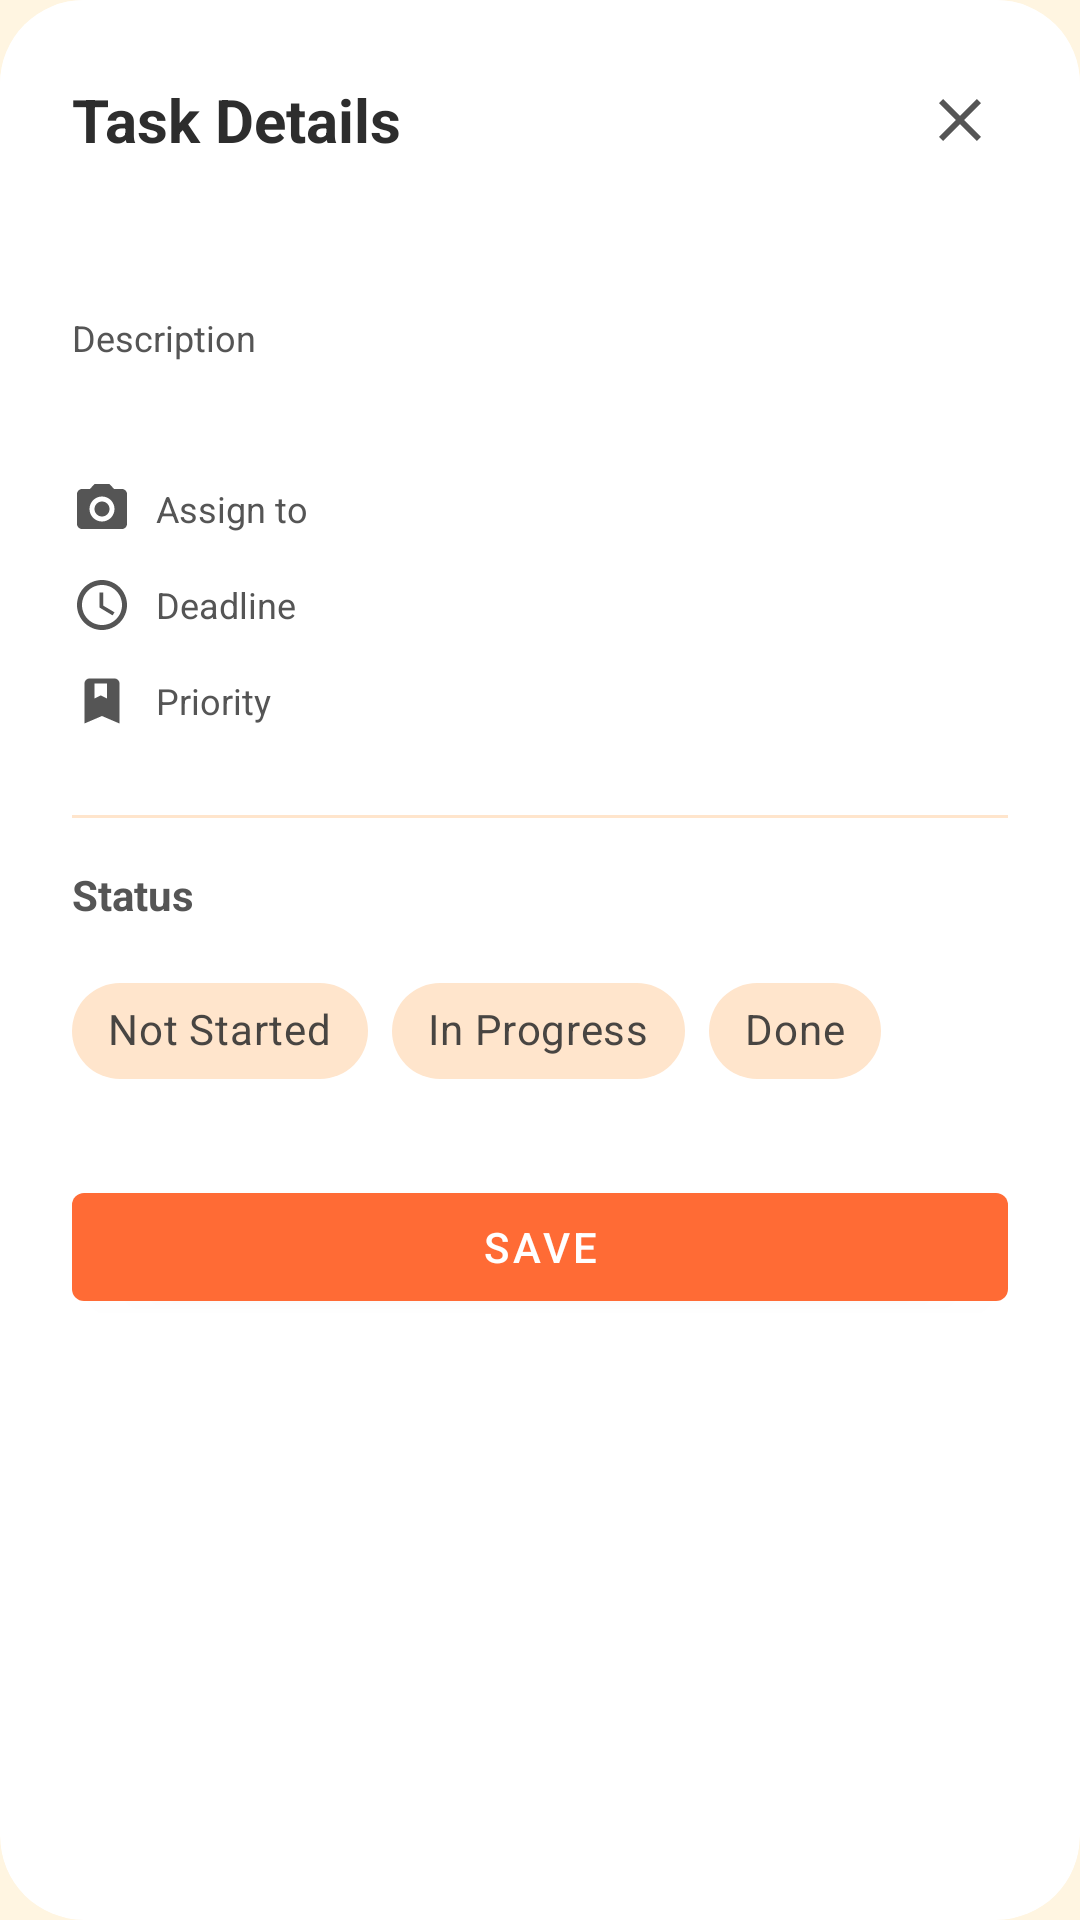

Screen size 1080 x 1920. Icon name, then its box in pixels as BBox(x1, y1, x2, y2):
Close: BBox(939, 99, 981, 141)
time: BBox(77, 580, 127, 630)
